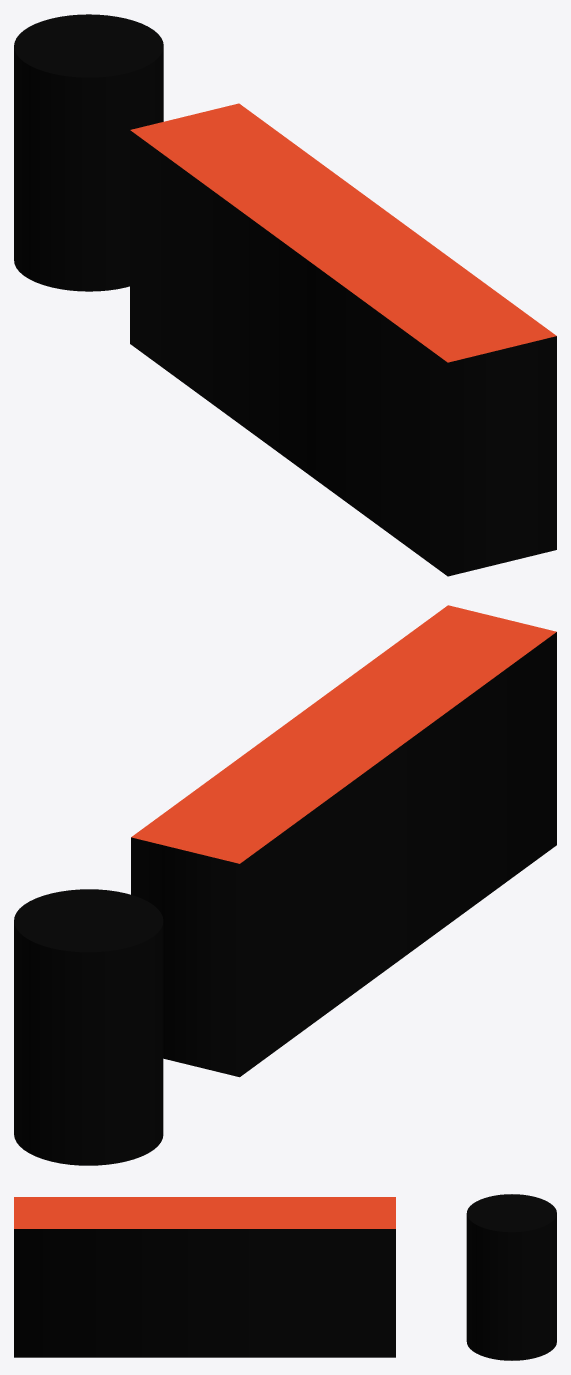
Rendered from dndinotplanedvf2.glb.
3 views of the same model, one above another, from view 1: azimuth 30°, elevation 25°; view 2: azimuth 150°, elevation 25°; view 3: azimuth 270°, elevation 25° (orthographic). The views are drawn at different scales.
Visible parts, largest first — view 1: Text_i.004, Text_i.001, Text_i.005, Text_i; view 2: Text_i.004, Text_i.001, Text_i.005, Text_i; view 3: Text_i.004, Text_i.001, Text_i.005, Text_i.
Boxes of the visible parts, box(x1,y1,x2,y2) form: Text_i.004: box(130, 130, 556, 576); Text_i.001: box(130, 103, 556, 362); Text_i.005: box(14, 47, 163, 291); Text_i: box(14, 14, 163, 77); Text_i.004: box(131, 632, 556, 1077); Text_i.001: box(131, 605, 556, 863); Text_i.005: box(14, 922, 163, 1165); Text_i: box(14, 889, 163, 952); Text_i.004: box(14, 1229, 395, 1357); Text_i.001: box(14, 1197, 395, 1228); Text_i.005: box(466, 1214, 556, 1360); Text_i: box(466, 1194, 556, 1232).
Size of what is drawn, in the model's own units: 0.1908 by 0.3 by 1.15.
